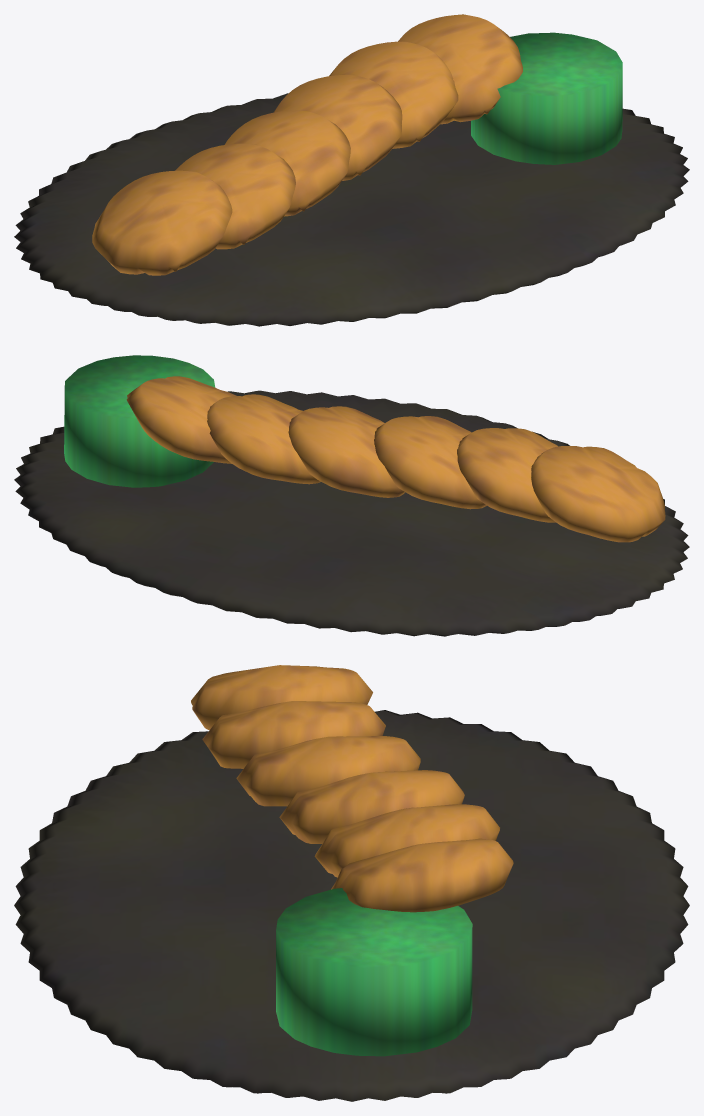
Rendered from dahi-ke-kebab-balanced.glb.
3 views of the same model, one above another, from view 1: azimuth 30°, elevation 25°; view 2: azimuth 150°, elevation 25°; view 3: azimuth 270°, elevation 25° (orthographic). The views are drawn at different scales.
Parts seen in each view (by area): view 1: Mesh_Oval_Tasting_Platter, Mesh_Dahi_Ke_Kebab_Medallions, Mesh_Mint_Chutney_Dip; view 2: Mesh_Oval_Tasting_Platter, Mesh_Dahi_Ke_Kebab_Medallions, Mesh_Mint_Chutney_Dip; view 3: Mesh_Oval_Tasting_Platter, Mesh_Dahi_Ke_Kebab_Medallions, Mesh_Mint_Chutney_Dip.
Part boxes in pixels (x1,y1,x2,y2): Mesh_Oval_Tasting_Platter: (14, 93, 689, 326); Mesh_Dahi_Ke_Kebab_Medallions: (92, 14, 522, 275); Mesh_Mint_Chutney_Dip: (471, 32, 622, 164); Mesh_Oval_Tasting_Platter: (14, 390, 689, 636); Mesh_Dahi_Ke_Kebab_Medallions: (126, 376, 665, 542); Mesh_Mint_Chutney_Dip: (64, 355, 215, 487); Mesh_Oval_Tasting_Platter: (14, 710, 689, 1101); Mesh_Dahi_Ke_Kebab_Medallions: (191, 665, 513, 912); Mesh_Mint_Chutney_Dip: (276, 888, 472, 1056).
Size of the model in its own units: 2.2 by 0.4507 by 1.6.
3 materials, 3 textured.
